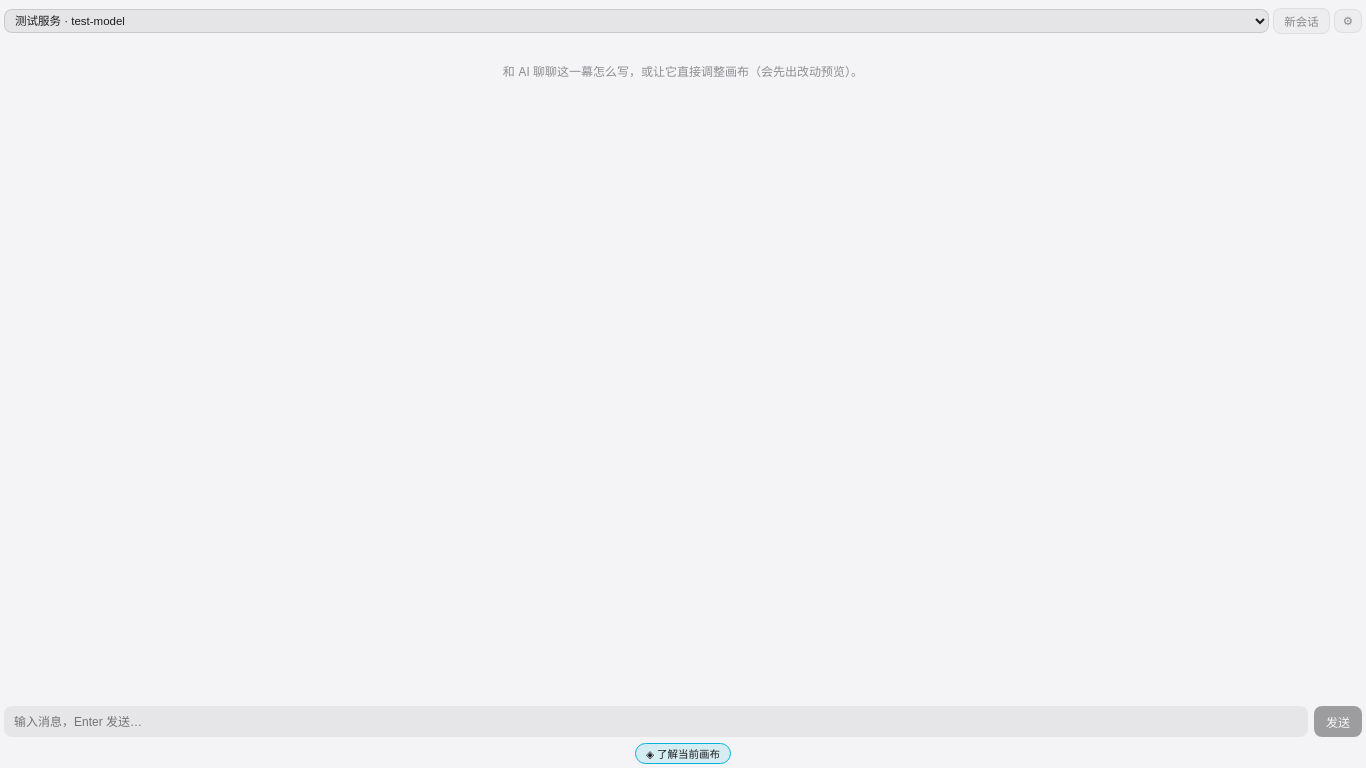
AiThread 输入行发送按钮的发送路径与 busy 切换（issue #599） › Enter 发送保留：与按钮共用同一回合路径
Type "按 Enter 发送" into the field named "AI 对话输入" at [656, 722], box [4,706,1308,737]
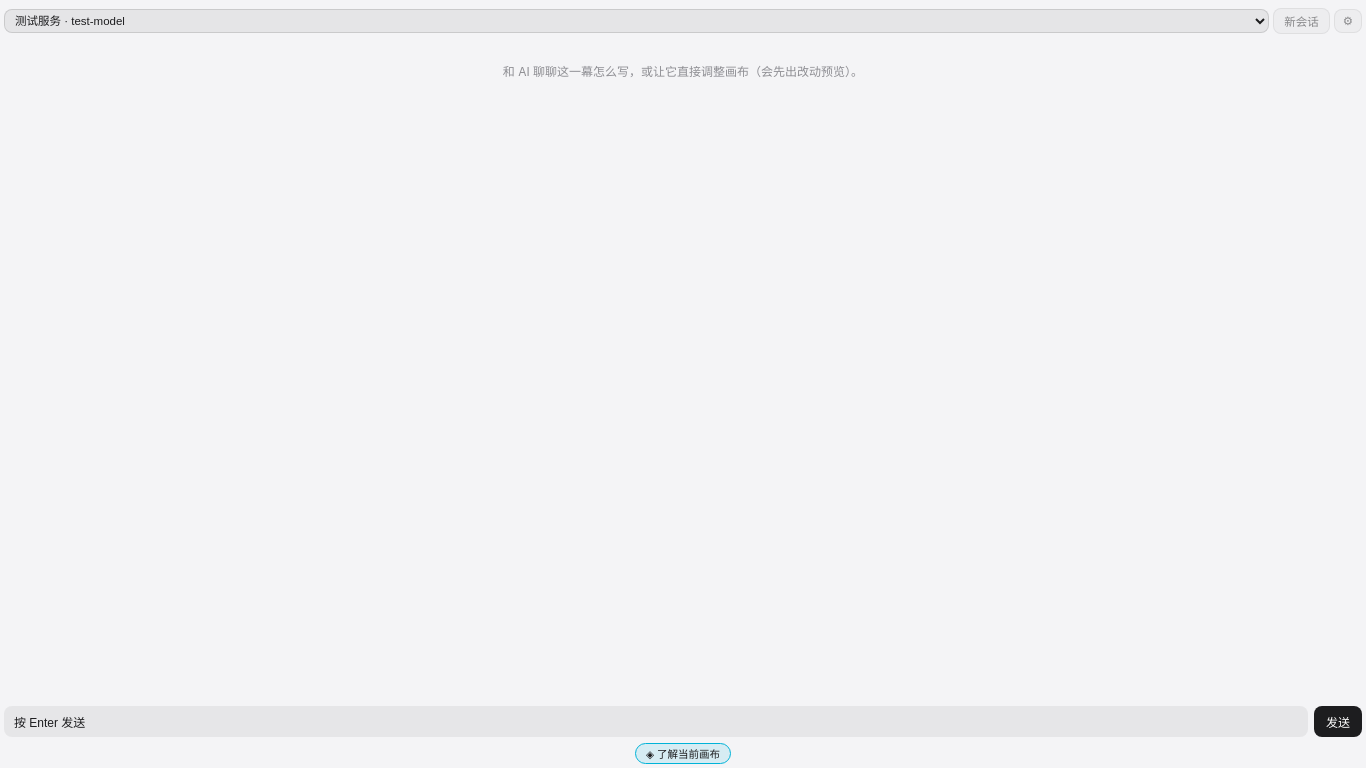
Press Enter in the field named "AI 对话输入", box [4,706,1308,737]
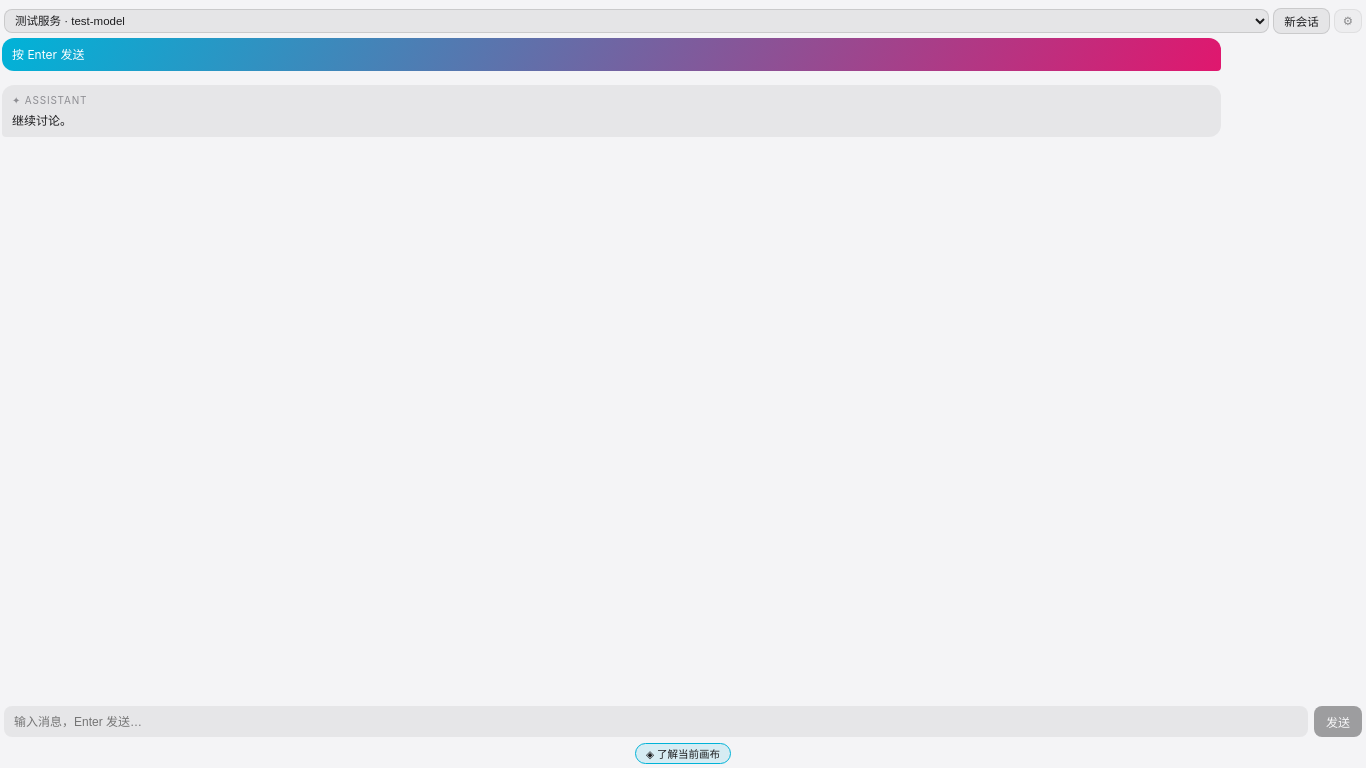
Result: the text "按 Enter 发送" is shown at [2,38,1220,71]
